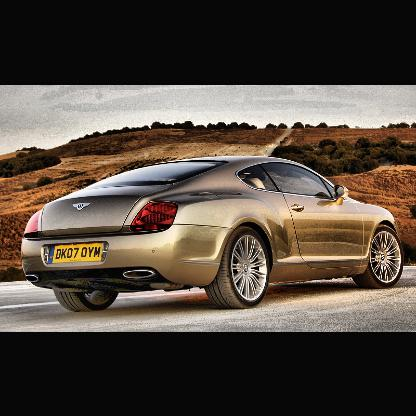Bentley Continental GT Coupe 2007: (20, 154, 407, 308)
